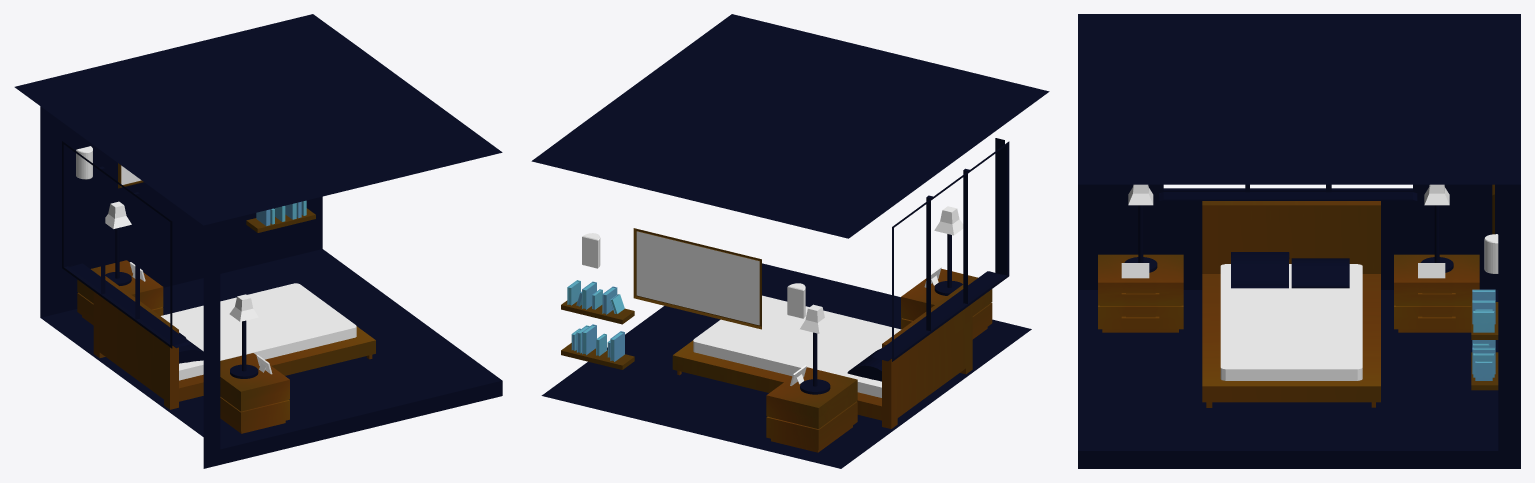
The model's file is bedroom 2.fbx.
3 views of the same model, side by side, from view 1: azimuth 30°, elevation 25°; view 2: azimuth 150°, elevation 25°; view 3: azimuth 270°, elevation 25° (orthographic). The views are drawn at different scales.
Parts seen in each view (by area): view 1: Plane, Plane.004, Bed, Cupboard 2, Cupboard 2.001, Shelf 1, Plane.017, Light, Plane.018, Plane.002; view 2: Plane.004, Plane, Bed, Painting, Cupboard 2.001, Cupboard 2, Shelf 1, Shelf 2, Plane.001, Light 2, Light, Plane.018 (+2 smaller); view 3: Plane, Plane.004, Bed, Cupboard 2, Cupboard 2.001, Light 2, Plane.001, Plane.017, Plane.018, Plane.002, Plane.009, Shelf 1 (+1 smaller).
Part boxes in pixels (x1,y1,x2,y2): Plane: (14,14,502,468); Plane.004: (41,21,502,221); Bed: (93,274,375,409); Cupboard 2: (220,353,289,433); Cupboard 2.001: (77,260,163,325); Shelf 1: (246,208,315,232); Plane.017: (230,320,258,378); Light: (76,146,92,179); Plane.018: (229,294,258,321); Plane.002: (105,201,131,228); Plane.004: (541,14,1031,226); Plane: (531,87,1049,468); Bed: (672,285,972,428); Painting: (633,228,761,329); Cupboard 2.001: (766,367,857,452); Cupboard 2: (901,268,992,339); Shelf 1: (561,343,634,369); Shelf 2: (561,300,634,324); Plane.001: (800,332,830,394); Light 2: (582,233,600,268); Light: (787,283,805,318); Plane.018: (934,206,963,235); Plane: (1078,14,1520,468); Plane.004: (1078,23,1498,184); Bed: (1202,201,1380,407); Cupboard 2: (1098,254,1183,332); Cupboard 2.001: (1394,254,1479,332); Light 2: (1484,234,1498,273); Plane.001: (1420,205,1453,272); Plane.017: (1124,205,1157,272); Plane.018: (1128,184,1153,205); Plane.002: (1424,184,1449,205); Plane.009: (1473,311,1494,332); Shelf 1: (1471,352,1498,390).
Bounding box in the file's own units: 787 × 611 × 863.
